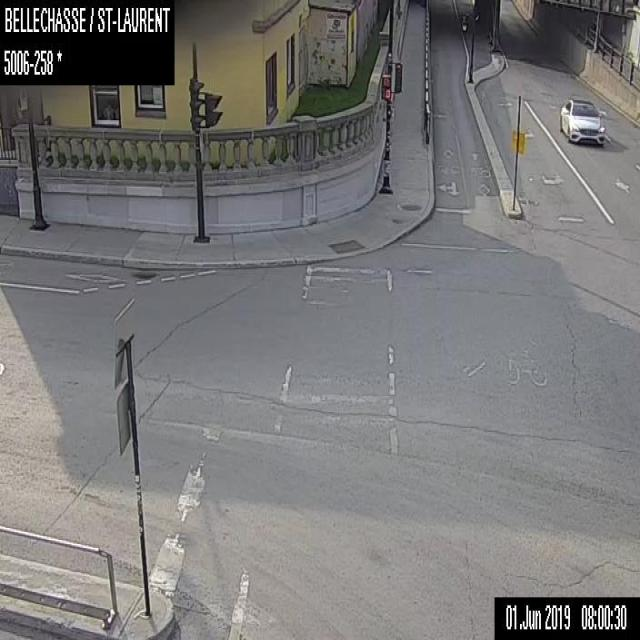vehicle: (559, 98, 605, 144)
